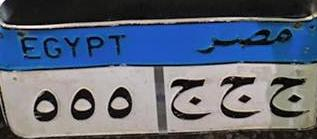5: (103, 78, 139, 124), (68, 80, 97, 123), (34, 82, 60, 124)
jeem: (263, 71, 312, 124), (168, 74, 212, 122), (216, 72, 259, 121)
